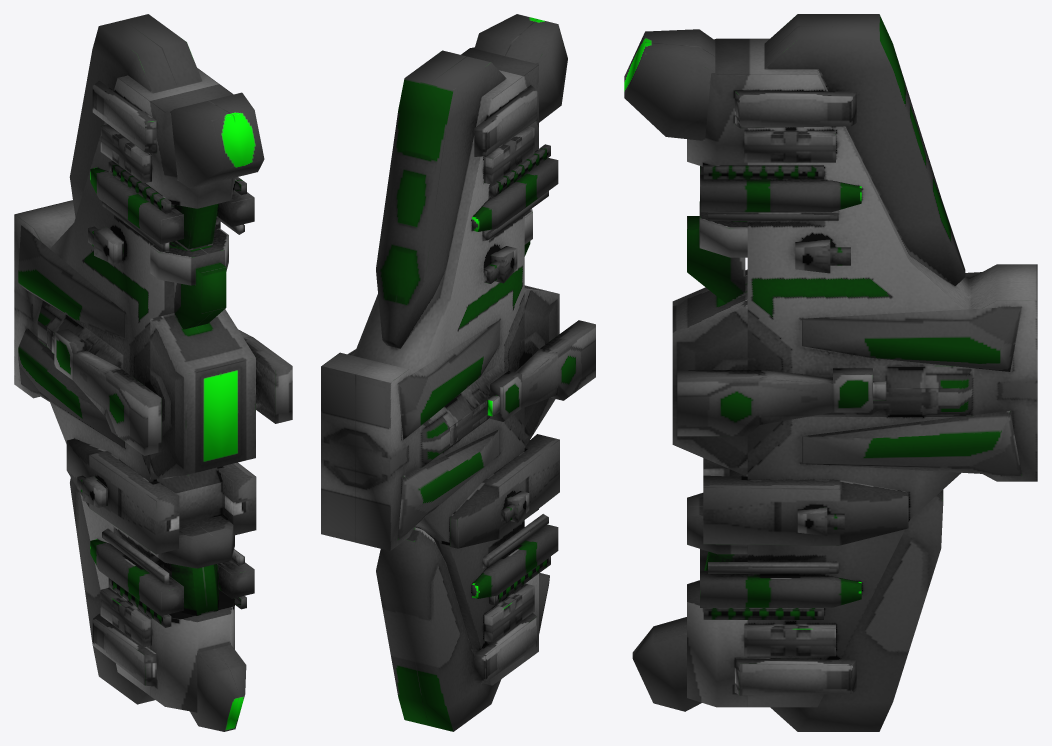
Rendered from UFlagship.fbx.
The picture shows the model from 3 angles, left to right: view 1: azimuth 30°, elevation 25°; view 2: azimuth 150°, elevation 25°; view 3: azimuth 270°, elevation 25°; orthographic projection. The views are drawn at different scales.
Visible parts, largest first — view 1: UnionFlagshipMod; view 2: UnionFlagshipMod; view 3: UnionFlagshipMod.
Part boxes in pixels (x1,y1,x2,y2): UnionFlagshipMod: (14, 14, 292, 731); UnionFlagshipMod: (321, 14, 595, 731); UnionFlagshipMod: (624, 14, 1037, 731).
Bounding box in the file's own units: 8.96 × 37.55 × 20.32.
Materials: 1 (1 with a texture image).
